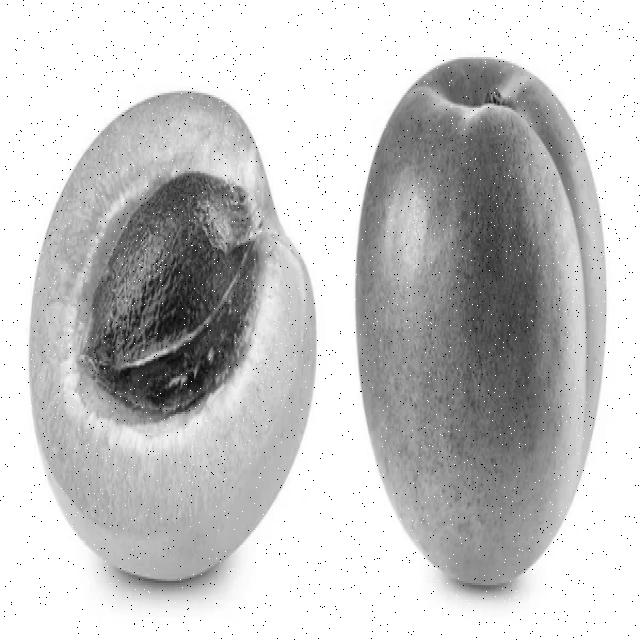cekirdek: (86, 185, 254, 402)
kayisi: (344, 46, 623, 606), (35, 83, 324, 602)
